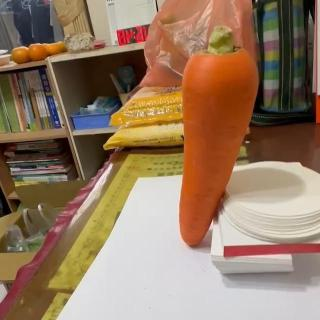carrot: (176, 27, 260, 249)
